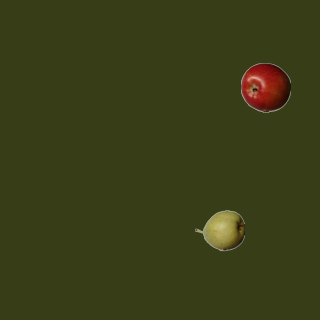Apple Braeburn: (240, 62, 290, 112)
Pear: (194, 205, 244, 255)
